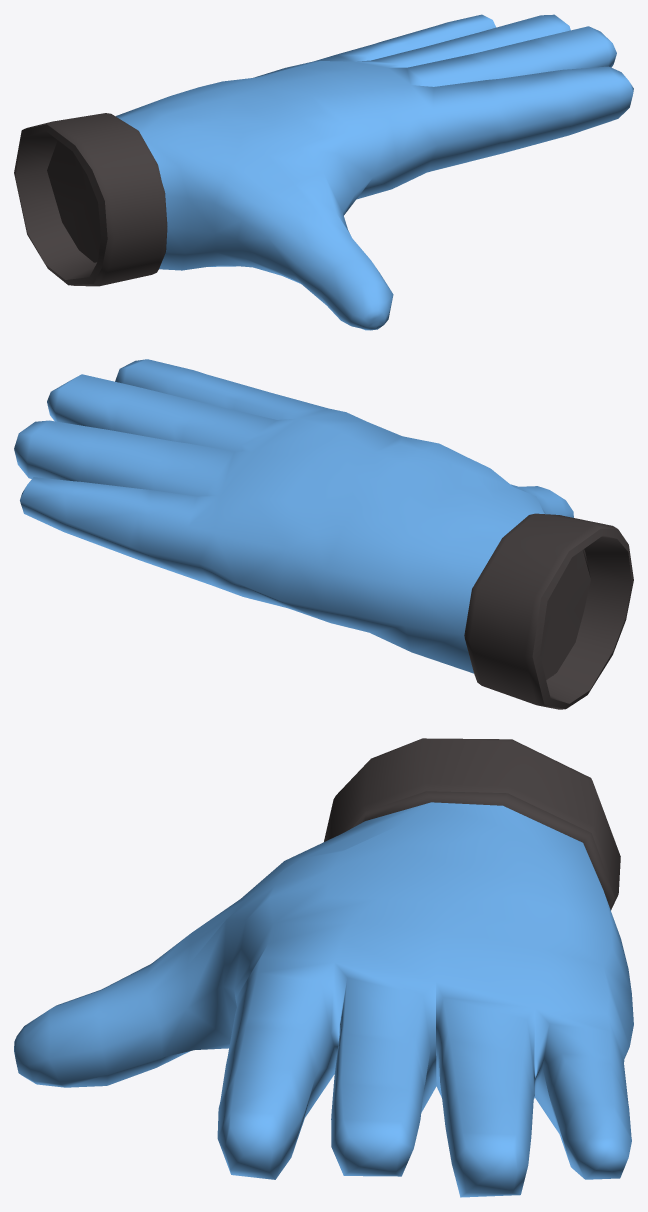
The model's file is Left_Arm_02_02.fbx.
3 views of the same model, one above another, from view 1: azimuth 30°, elevation 25°; view 2: azimuth 150°, elevation 25°; view 3: azimuth 270°, elevation 25° (orthographic). The views are drawn at different scales.
Parts seen in each view (by area): view 1: Left_Arm_02_02; view 2: Left_Arm_02_02; view 3: Left_Arm_02_02.
Boxes of the visible parts, box(x1,y1,x2,y2) form: Left_Arm_02_02: box(14, 14, 633, 330); Left_Arm_02_02: box(14, 359, 633, 709); Left_Arm_02_02: box(14, 738, 633, 1197).
Size of the model in its own units: 25.38 by 7.23 by 16.72.
